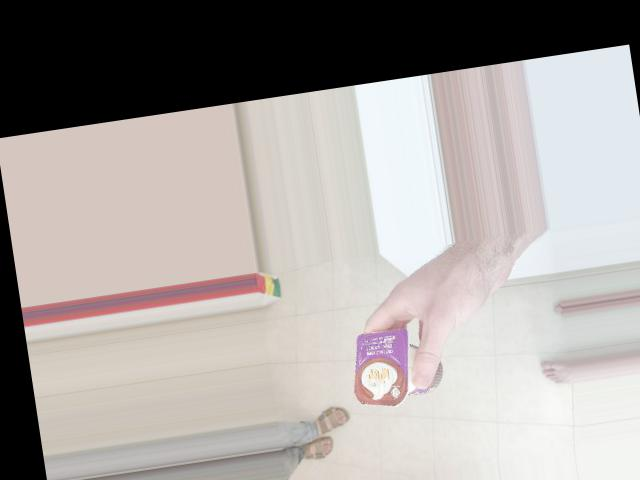milky: (340, 318, 461, 409)
